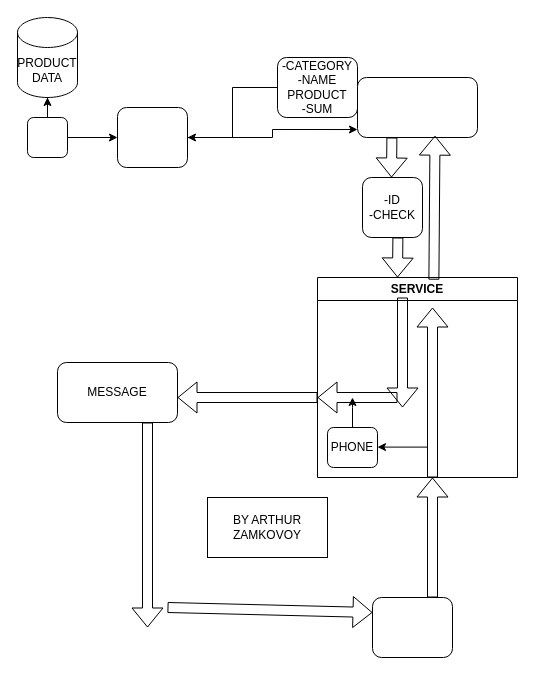
The diagram is 535 pixels wide and 675 high, and some of its shapes have lost their labels. The shapes that lost their labels are listed below. From the top down, each one's centre as x and y in pixels, then its label:
At [417,107]: "ORDERS".
At [47,137]: "TRUE FALSE".
At [152,137]: "PRODUCT MANAGER".
At [412,627]: "CLIENT".
